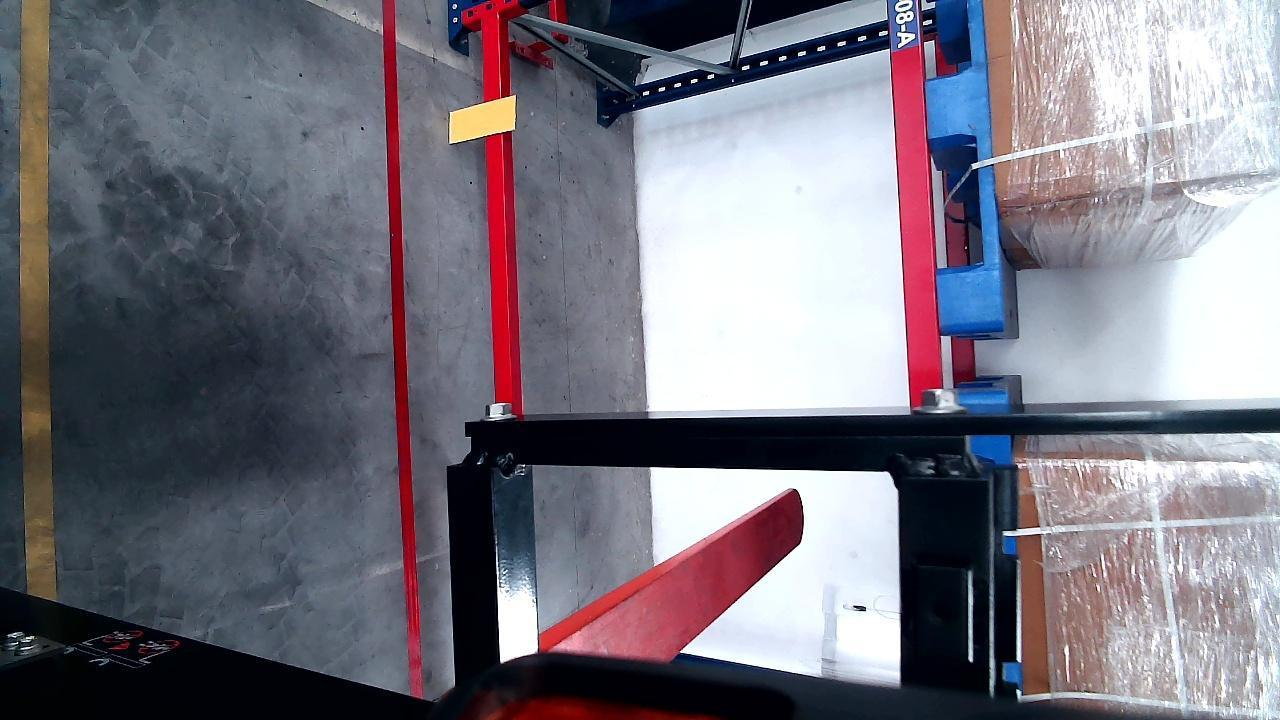h_rack: (887, 2, 938, 406), (478, 13, 520, 410)
orange_strip: (448, 96, 516, 142)
red_line: (380, 0, 422, 688)
small_pallet: (920, 1, 1005, 333)
yellow_line: (18, 2, 55, 602)
